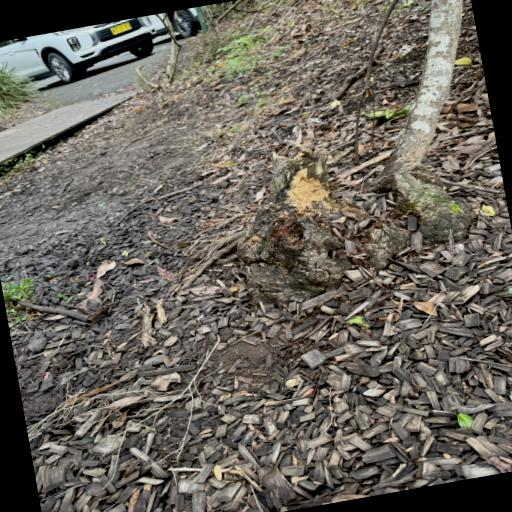tree root: (374, 0, 474, 245), (238, 150, 367, 302), (360, 217, 407, 268)
